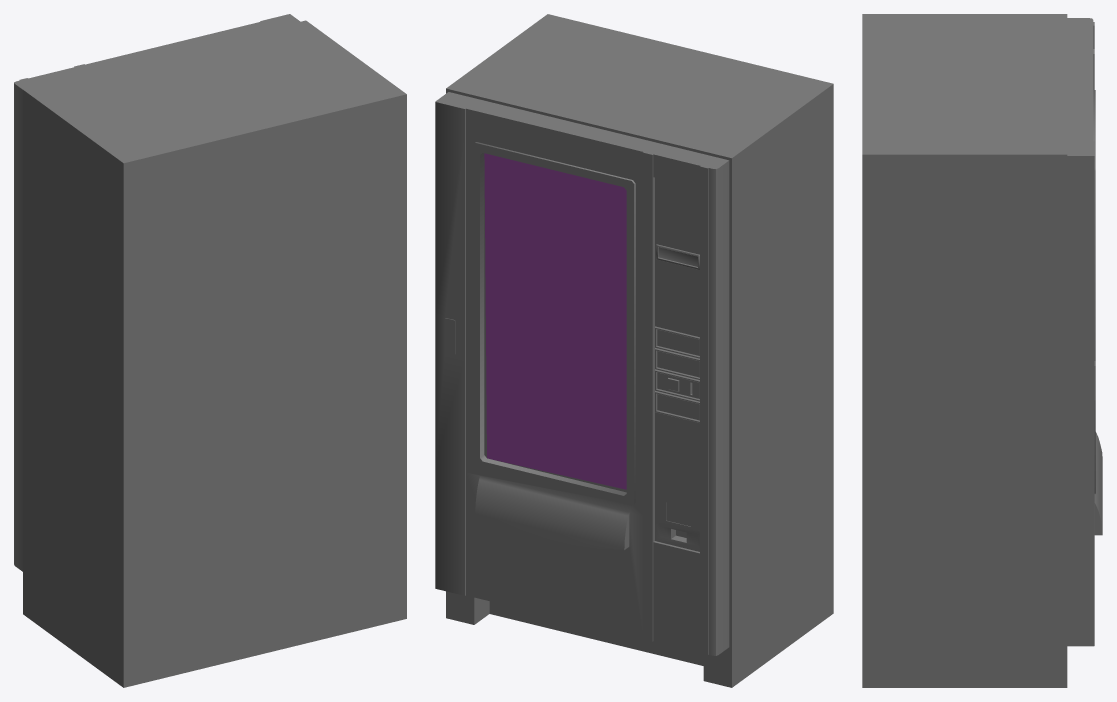
The model's file is VendingMachine Theater.fbx.
3 views of the same model, side by side, from view 1: azimuth 30°, elevation 25°; view 2: azimuth 150°, elevation 25°; view 3: azimuth 270°, elevation 25° (orthographic).
Visible parts, largest first — view 1: sm_Vendingmachine_01_01; view 2: sm_Vendingmachine_01_01; view 3: sm_Vendingmachine_01_01.
Boxes of the visible parts, x1=… form: sm_Vendingmachine_01_01: x1=14, y1=14, x2=406, y2=687; sm_Vendingmachine_01_01: x1=435, y1=14, x2=833, y2=687; sm_Vendingmachine_01_01: x1=862, y1=14, x2=1102, y2=687.
Size of the model in its own units: 113 by 200 by 81.72.
